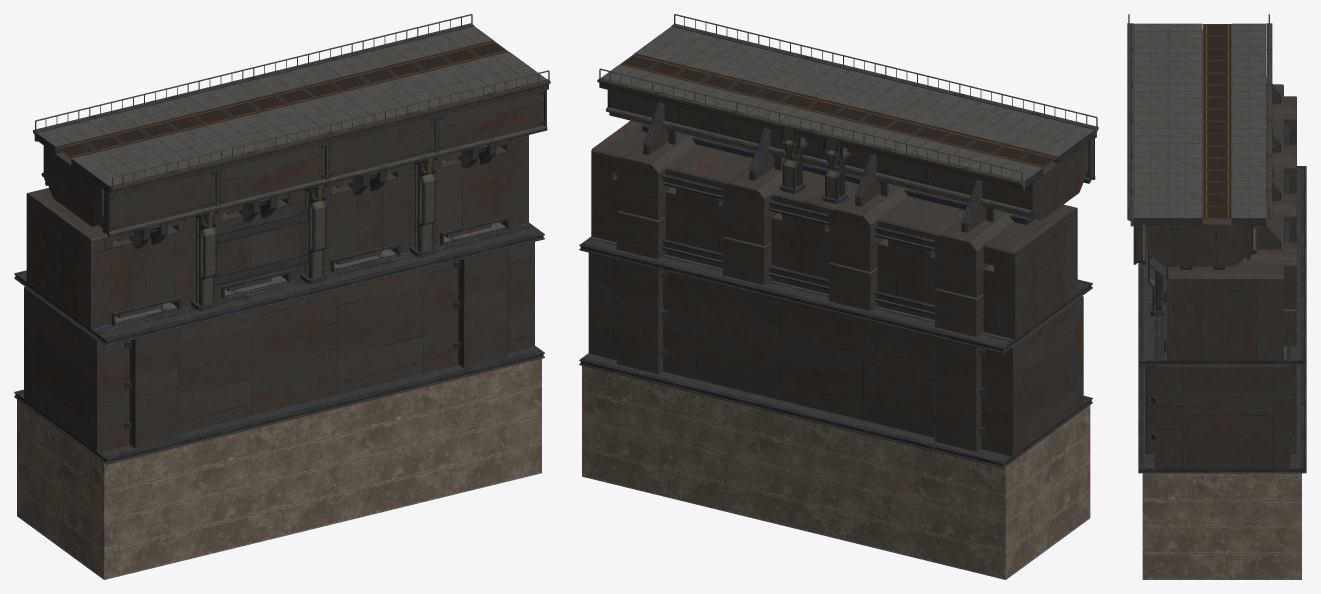
Rendered from Wall1C.fbx.
3 renders of one model, left to right at view 1: azimuth 30°, elevation 25°; view 2: azimuth 150°, elevation 25°; view 3: azimuth 270°, elevation 25°, orthographic. The views are drawn at different scales.
Parts seen in each view (by area): view 1: polySurface1122; view 2: polySurface1122; view 3: polySurface1122.
Part boxes in pixels (x1,y1,x2,y2): polySurface1122: (14, 14, 550, 579); polySurface1122: (579, 14, 1098, 579); polySurface1122: (1127, 14, 1306, 579).
Bounding box in the file's own units: 4000 × 3565 × 1555.
